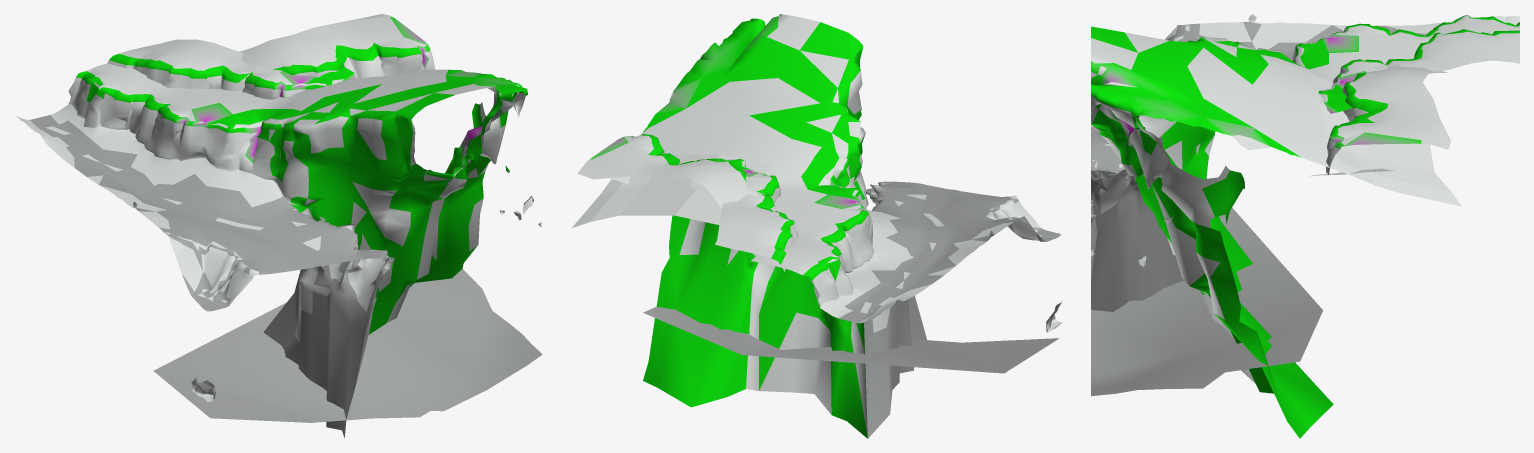
3 renders of one model, left to right at view 1: azimuth 30°, elevation 25°; view 2: azimuth 150°, elevation 25°; view 3: azimuth 270°, elevation 25°, orthographic. The views are drawn at different scales.
Parts seen in each view (by area): view 1: G:\FFXIV-MapTools\exports\f1f1\bg\ffxiv\fst_f1\fld\f1f1\bgpl (×13); view 2: G:\FFXIV-MapTools\exports\f1f1\bg\ffxiv\fst_f1\fld\f1f1\bgpl (×10); view 3: G:\FFXIV-MapTools\exports\f1f1\bg\ffxiv\fst_f1\fld\f1f1\bgpl (×9).
Part boxes in pixels (x1,y1,x2,y2): G:\FFXIV-MapTools\exports\f1f1\bg\ffxiv\fst_f1\fld\f1f1\bgpl (×13): (16,14,542,438); G:\FFXIV-MapTools\exports\f1f1\bg\ffxiv\fst_f1\fld\f1f1\bgpl (×10): (571,14,1062,438); G:\FFXIV-MapTools\exports\f1f1\bg\ffxiv\fst_f1\fld\f1f1\bgpl (×9): (1091,15,1519,438).
Bounding box in the file's own units: 128 × 119 × 128.
